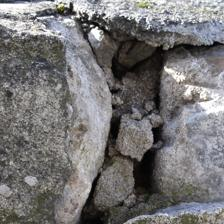Crack: (41, 14, 134, 207)
